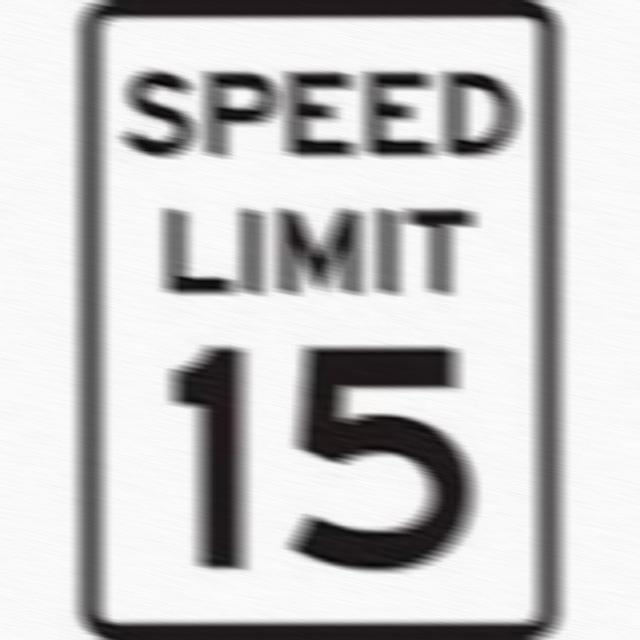speedLimit15: (74, 10, 558, 634)
